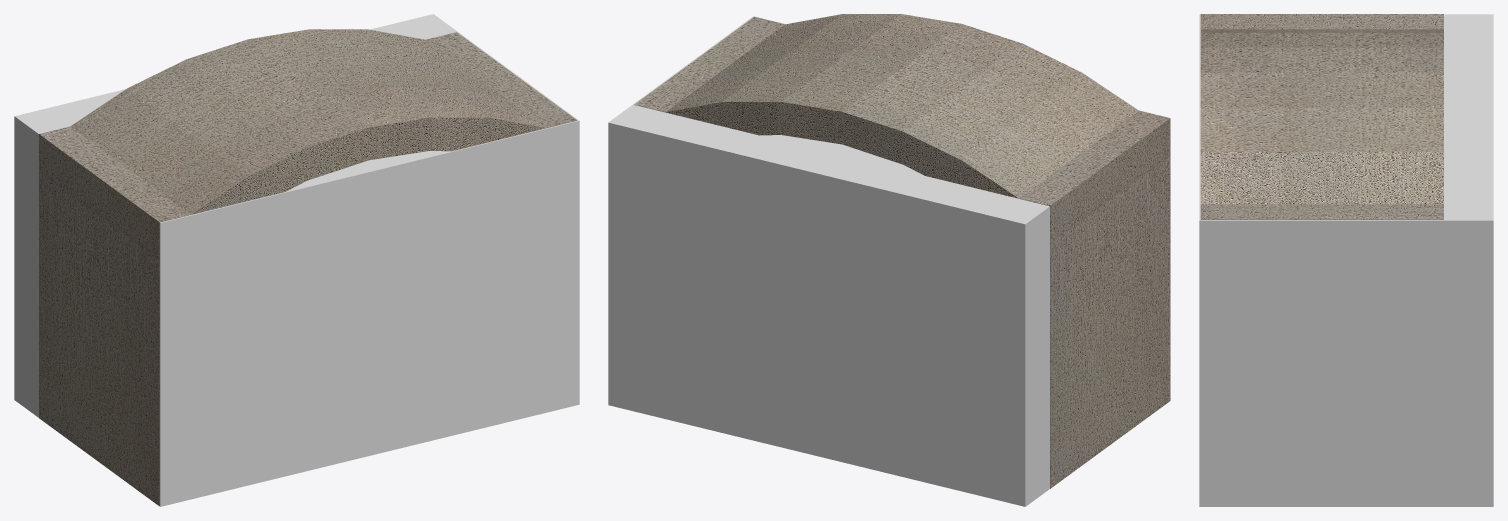
Rendered from BLCW26H.glb.
3 renders of one model, left to right at view 1: azimuth 30°, elevation 25°; view 2: azimuth 150°, elevation 25°; view 3: azimuth 270°, elevation 25°, orthographic.
Visible parts, largest first — view 1: _bb.003, limestone.001; view 2: _bb.003, limestone.001; view 3: _bb.003, limestone.001.
Boxes of the visible parts, x1,y1,x2,y2 form: _bb.003: (14, 14, 579, 506); limestone.001: (39, 29, 576, 506); _bb.003: (608, 16, 1170, 506); limestone.001: (634, 14, 1170, 488); _bb.003: (1199, 14, 1493, 506); limestone.001: (1200, 14, 1443, 219).
Bounding box in the file's own units: 0.4013 × 0.3 × 0.242.
Materials: 1 (1 with a texture image).
